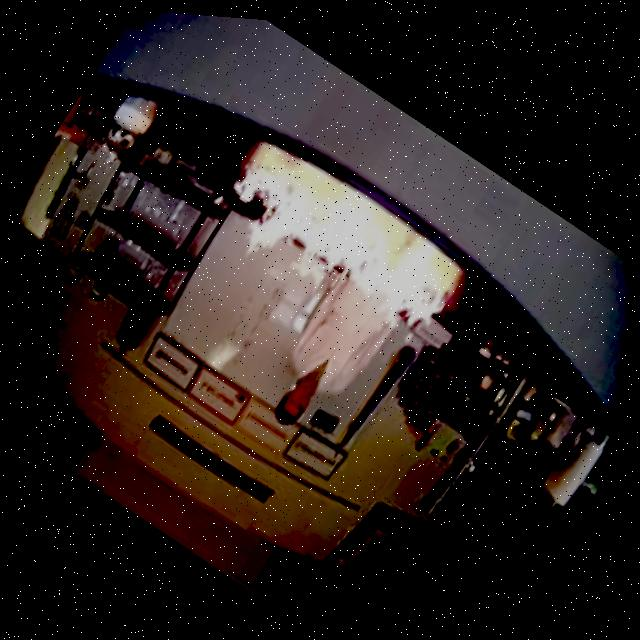Fire: (195, 130, 476, 363)
